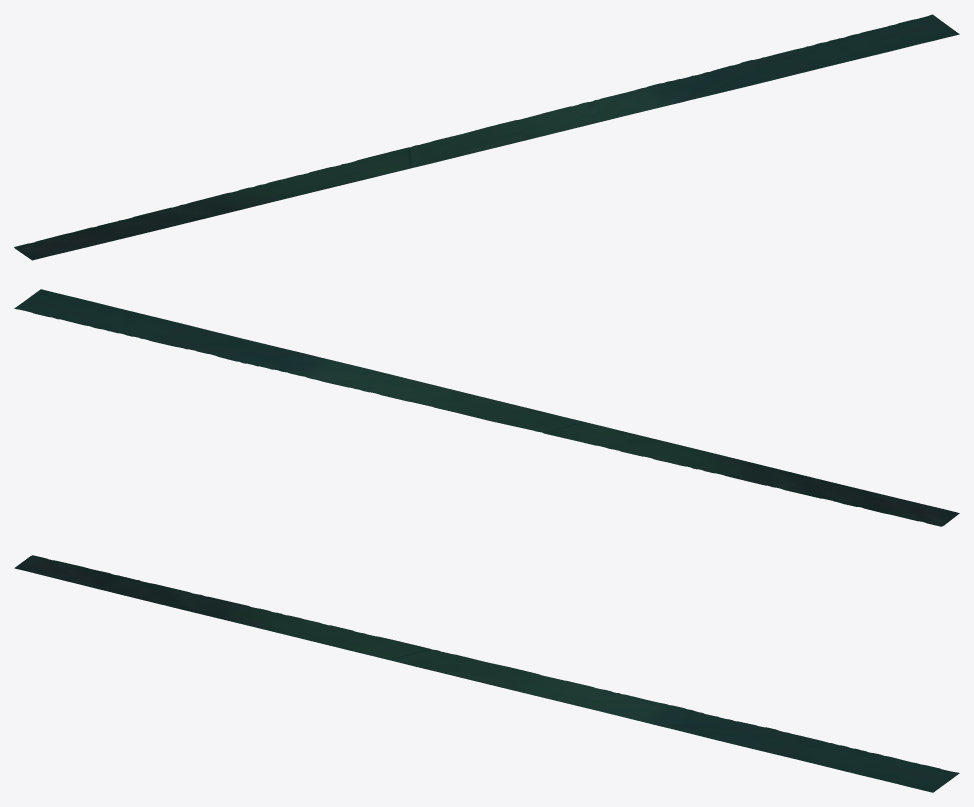
3 views of the same model, one above another, from view 1: azimuth 30°, elevation 25°; view 2: azimuth 150°, elevation 25°; view 3: azimuth 330°, elevation 25° (orthographic).
Bounding box in the file's own units: 1252 × 1.17 × 63.36.
Materials: 1 (1 with a texture image).
